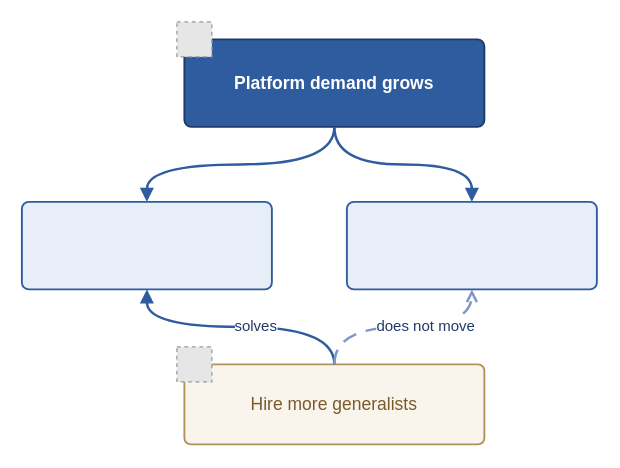
Image size: 620x468. Some labels were removed from this diagram. Grey dashed boxes stand in for pictures. Each missing label, with the centre of its shape:
"Variety more kinds, each with its experts" belongs at (471,245).
"Volume more of the same" belongs at (146,245).
